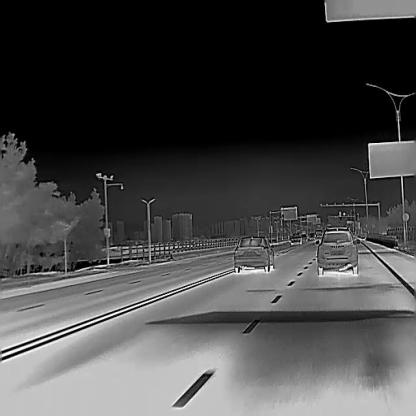car: (314, 228, 360, 275), (233, 235, 274, 272), (290, 233, 300, 244), (314, 230, 322, 240), (300, 233, 308, 242)
